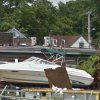Boat: (1, 51, 94, 90)
